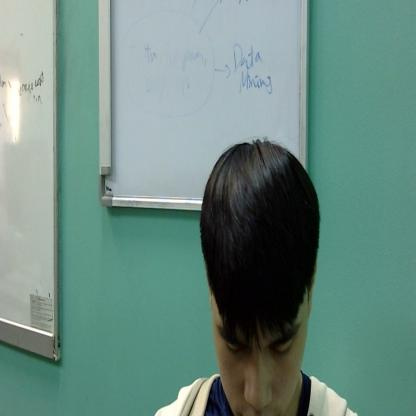Closed-Eyes: (215, 318, 302, 365)
